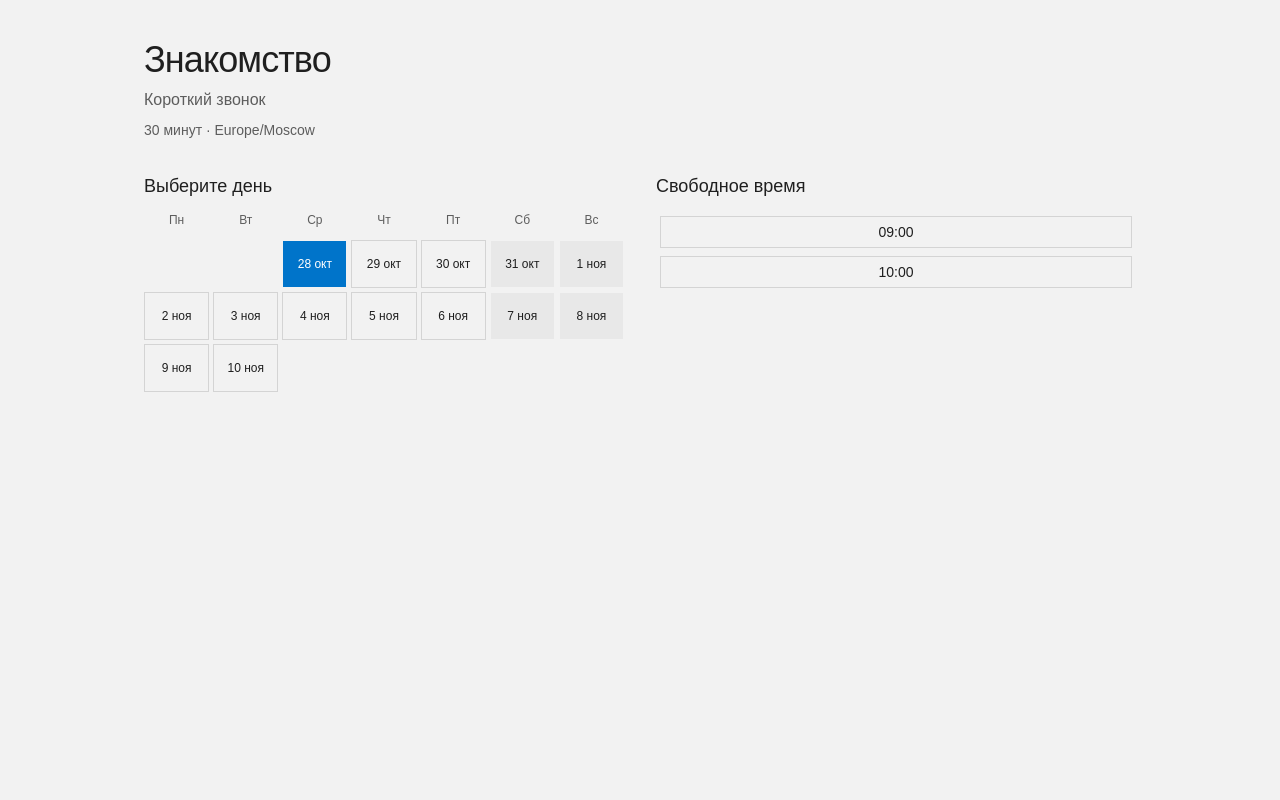
it: EventTypePage › clears the taken slot, keeps guest data and blocks resubmit until another slot
Click the button "09:00" at (896, 232), box [660, 216, 1132, 248]
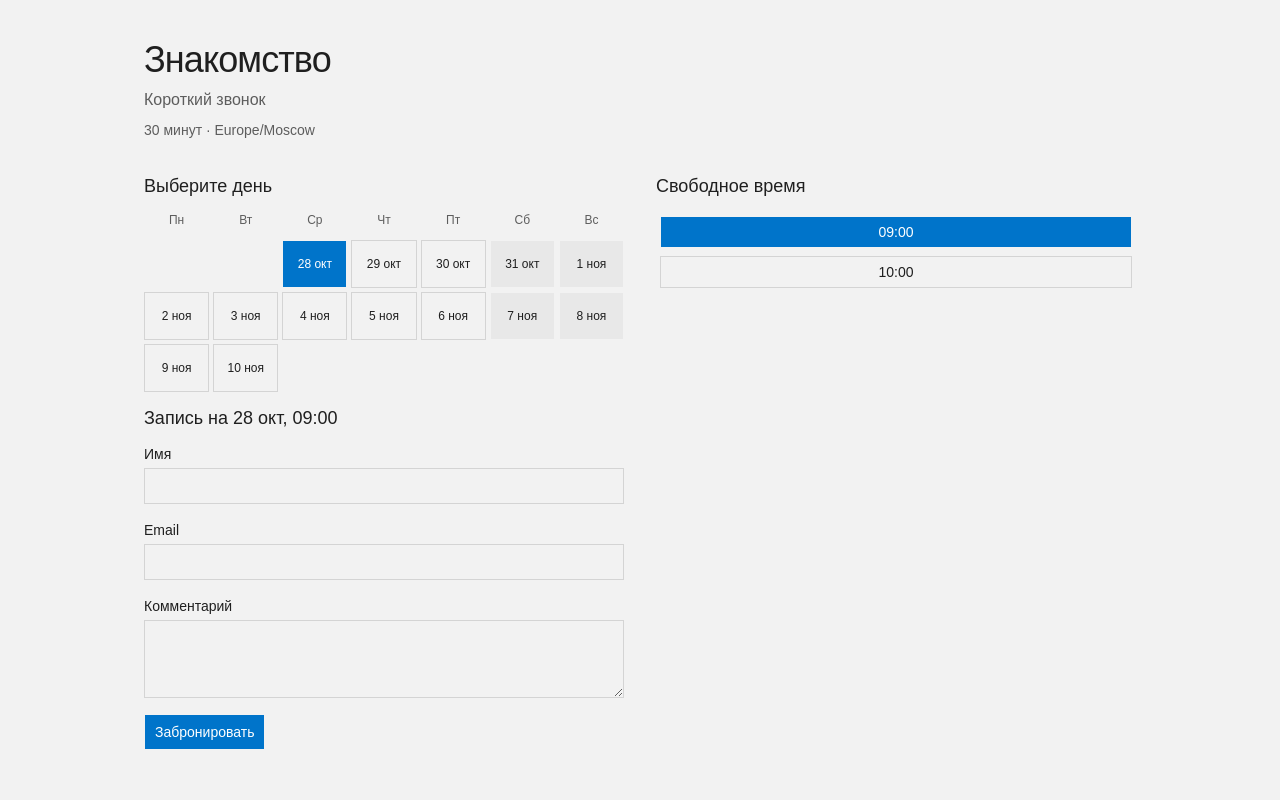
Type "Гость" into the field labelled "Имя" at (384, 486), box [144, 468, 624, 504]
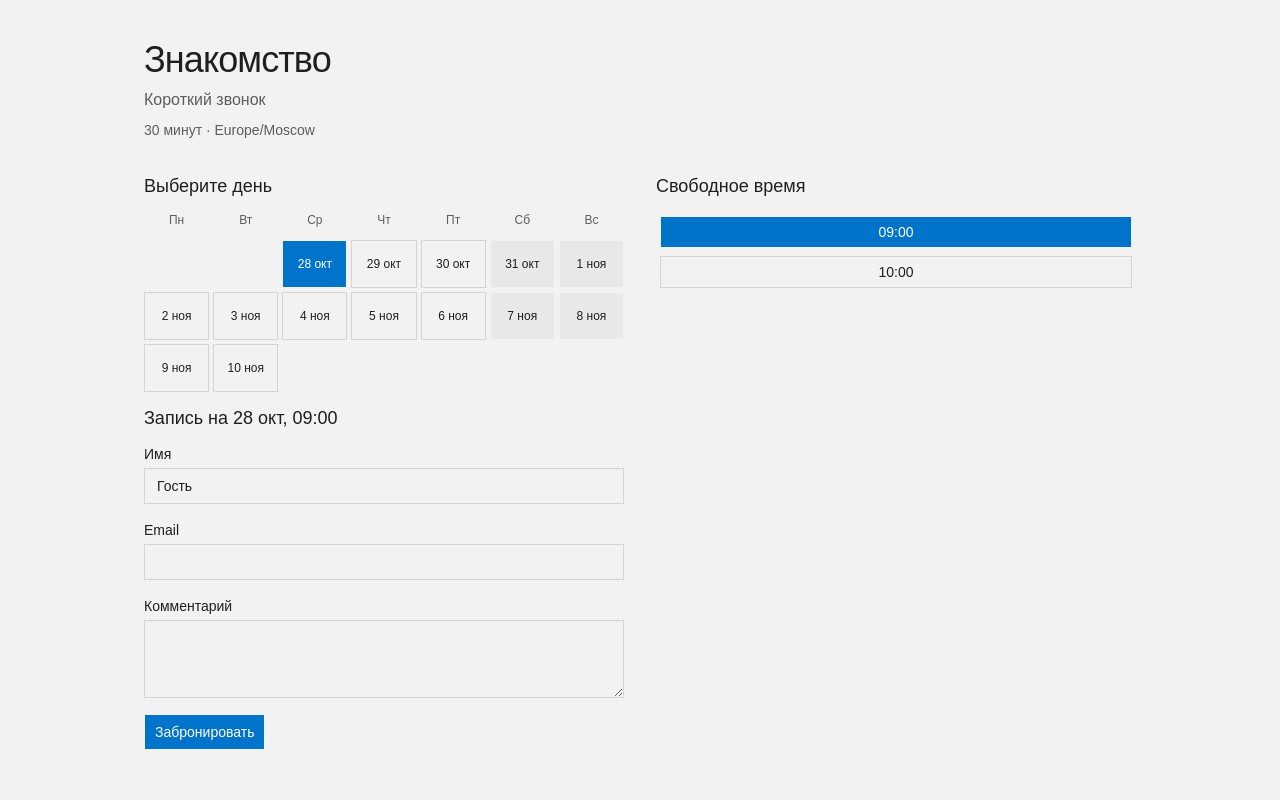
Type "guest@example.com" into the field labelled "Email" at (384, 562), box [144, 544, 624, 580]
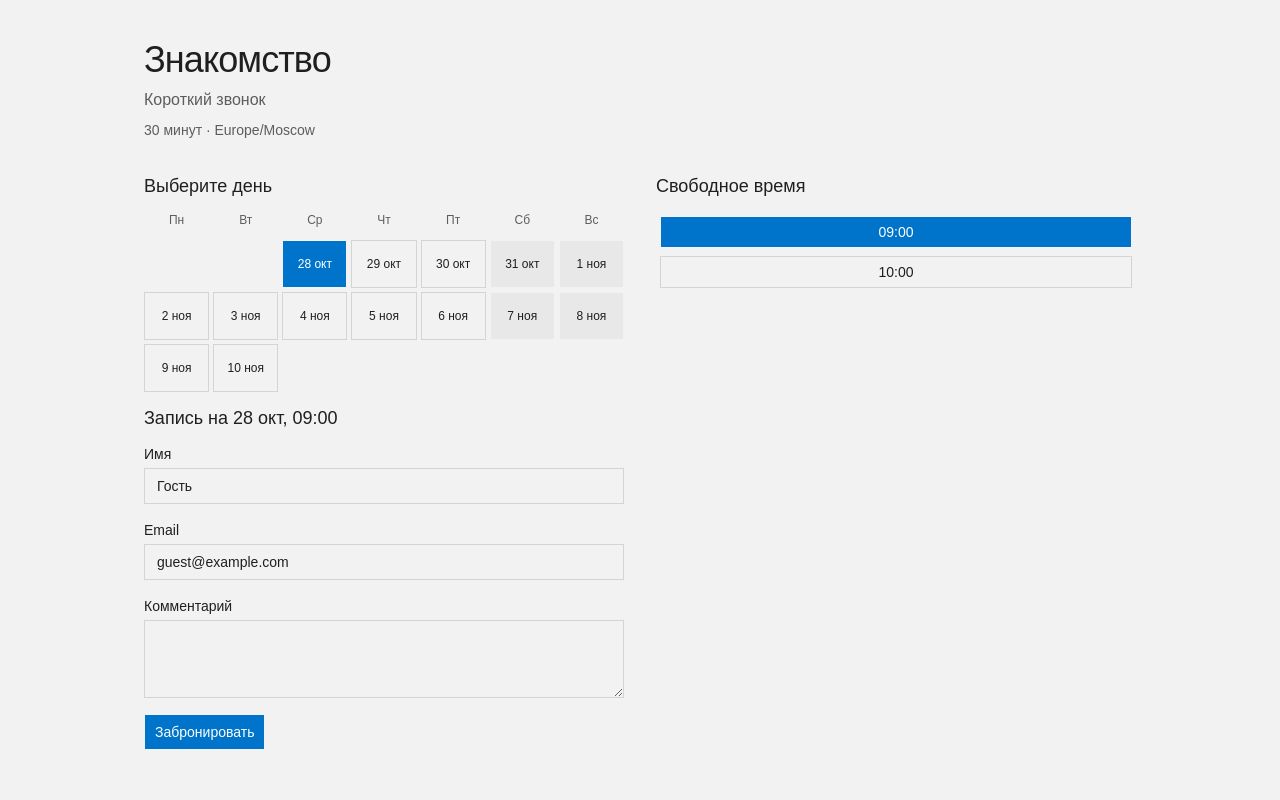
Click the button "Забронировать" at (205, 732), box [144, 714, 265, 750]
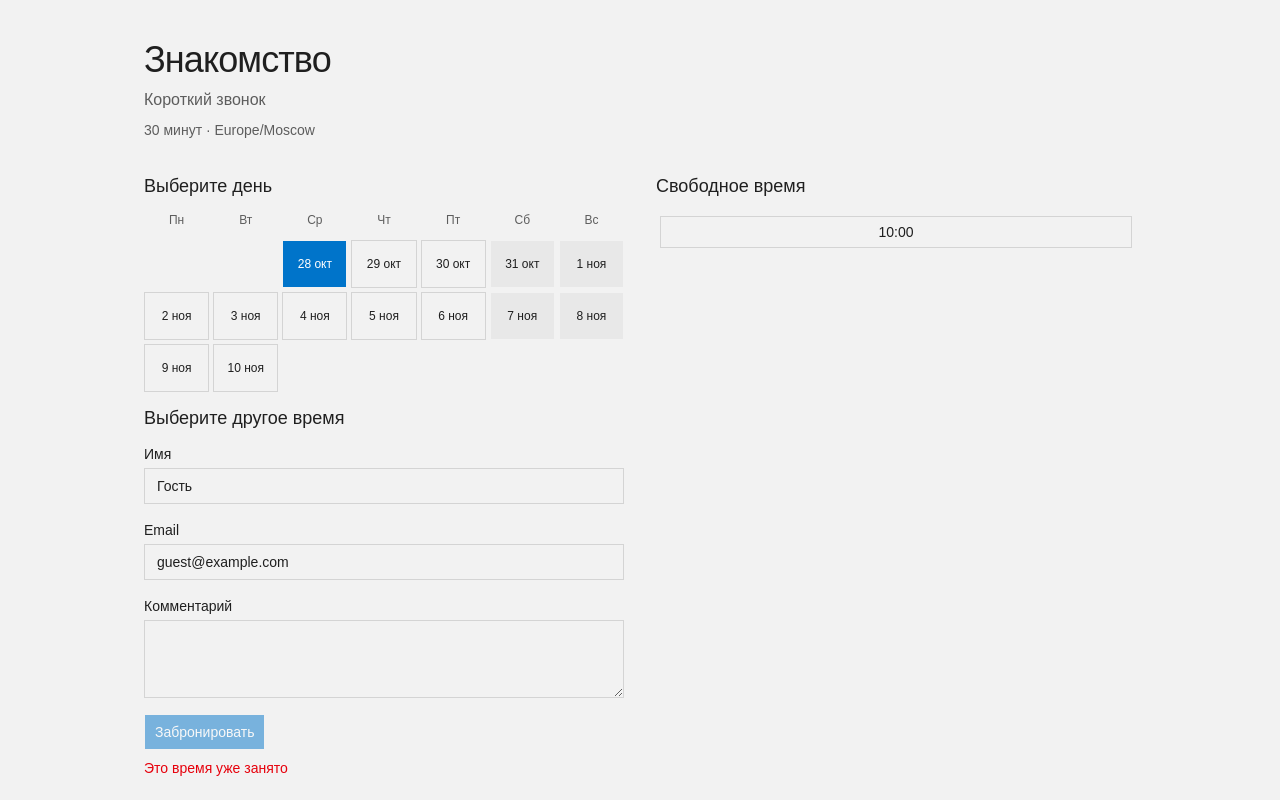
Now the text "Это время уже занято" is shown, box [144, 760, 288, 776]
Now the heading "09:00" is gone
Now the button "Забронировать" is disabled, box [144, 714, 265, 750]
Click the button "10:00" at (896, 232), box [660, 216, 1132, 248]
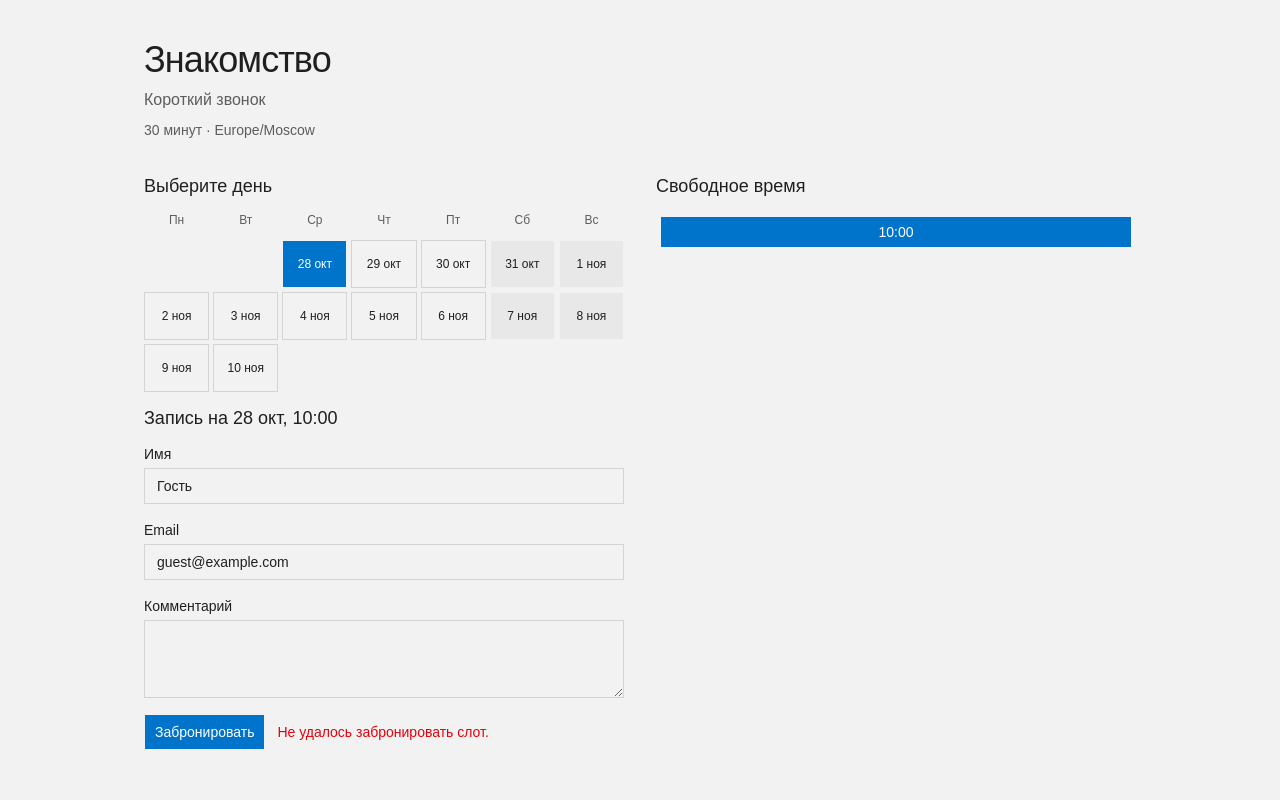
Now the button "Забронировать" is enabled, box [144, 714, 265, 750]
